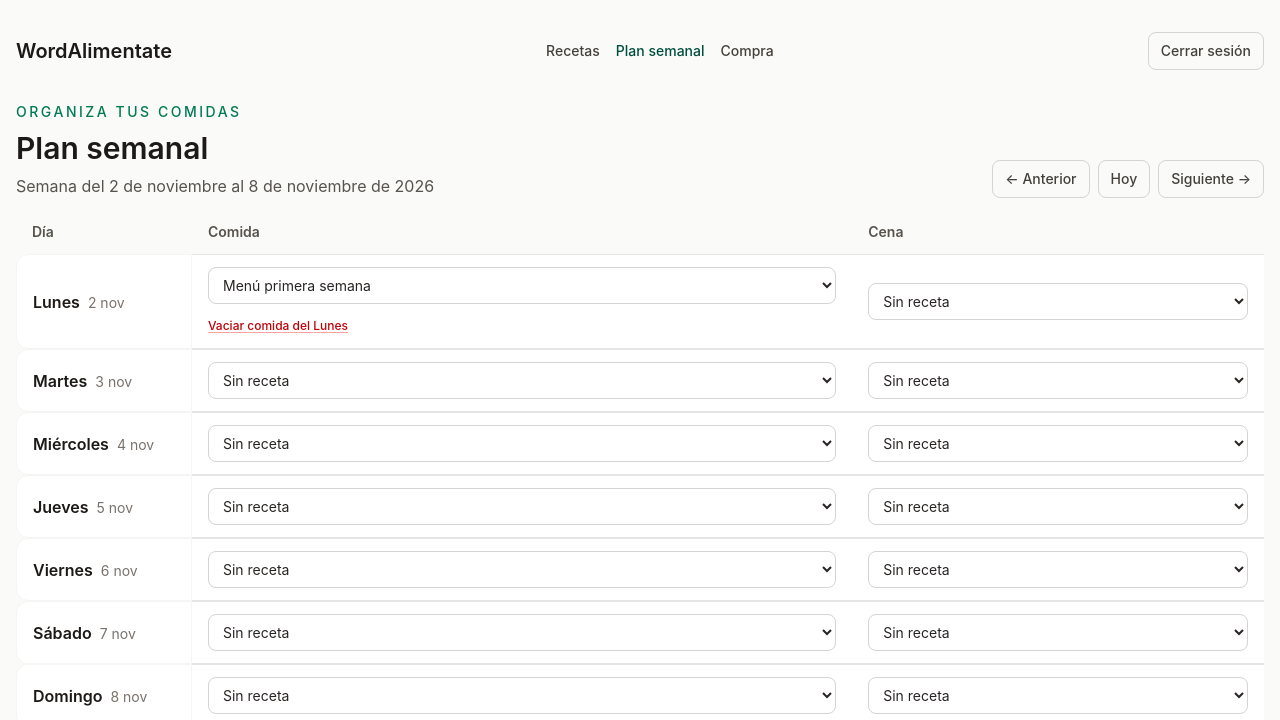
Scenario: weekly planner › shows seven days with lunch and dinner and loads a separate plan for the next week
The width and height of the screenshot is (1280, 720).
Expected: the dropdown named "Receta para Comida del Lunes" shows "Menú primera semana", [208,267,836,304]
Click the button with aria-label "Semana siguiente".
click(1211, 179)  # box [1158,160,1264,198]
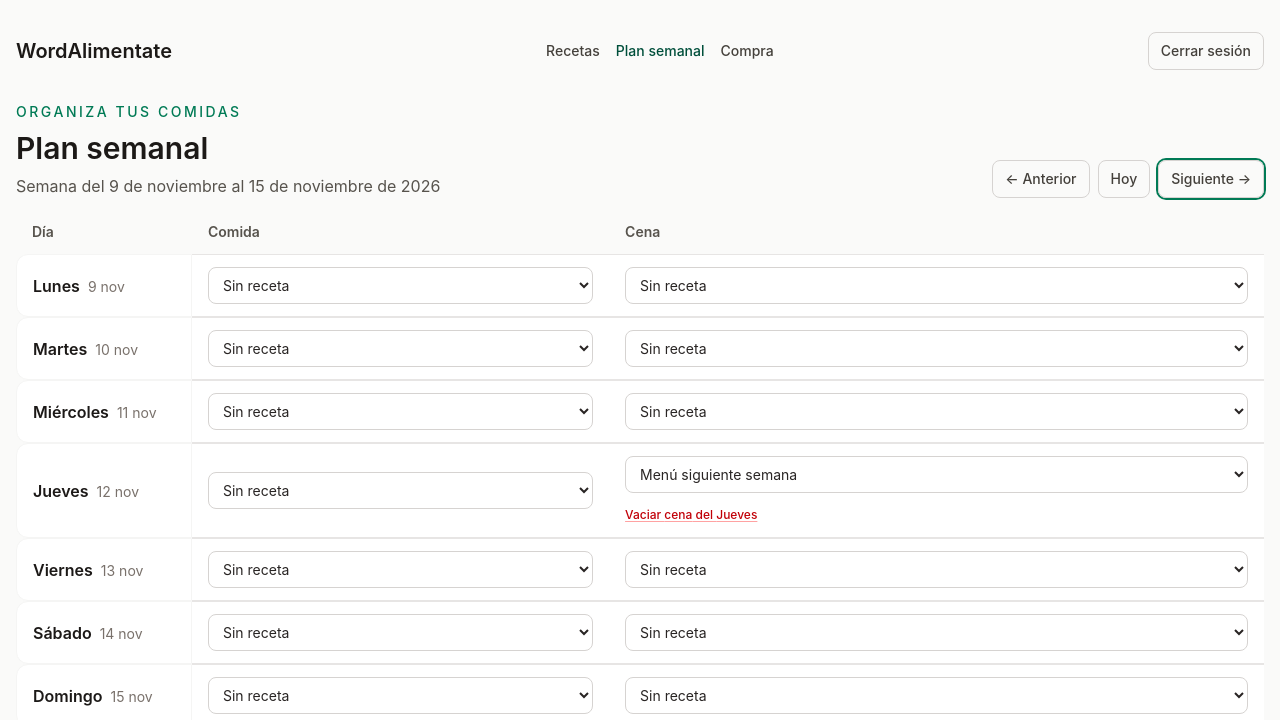
Expected: the dropdown named "Receta para Cena del Jueves" shows "Menú siguiente semana", [625,456,1248,493]
Expected: the dropdown named "Receta para Comida del Lunes" shows "Sin receta", [208,267,593,304]
Click the button "Hoy".
click(1124, 179)  # box [1098,160,1150,198]
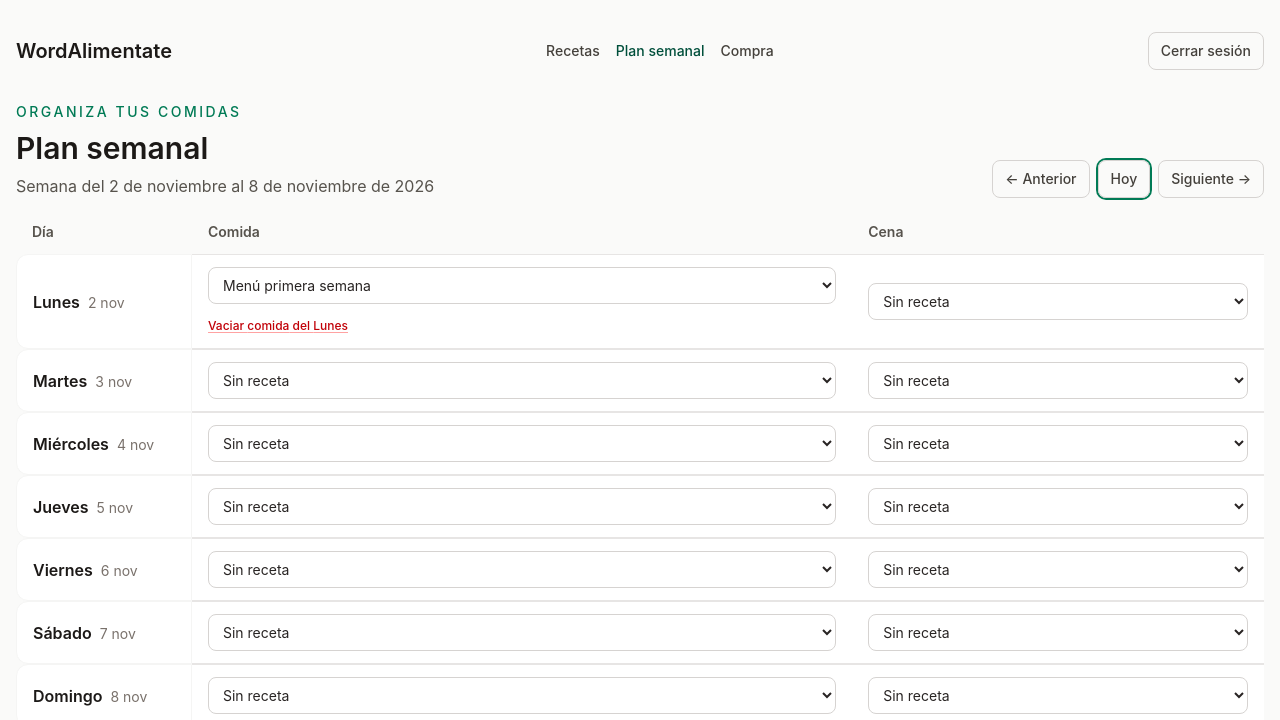
Expected: the dropdown named "Receta para Comida del Lunes" shows "Menú primera semana", [208,267,836,304]
